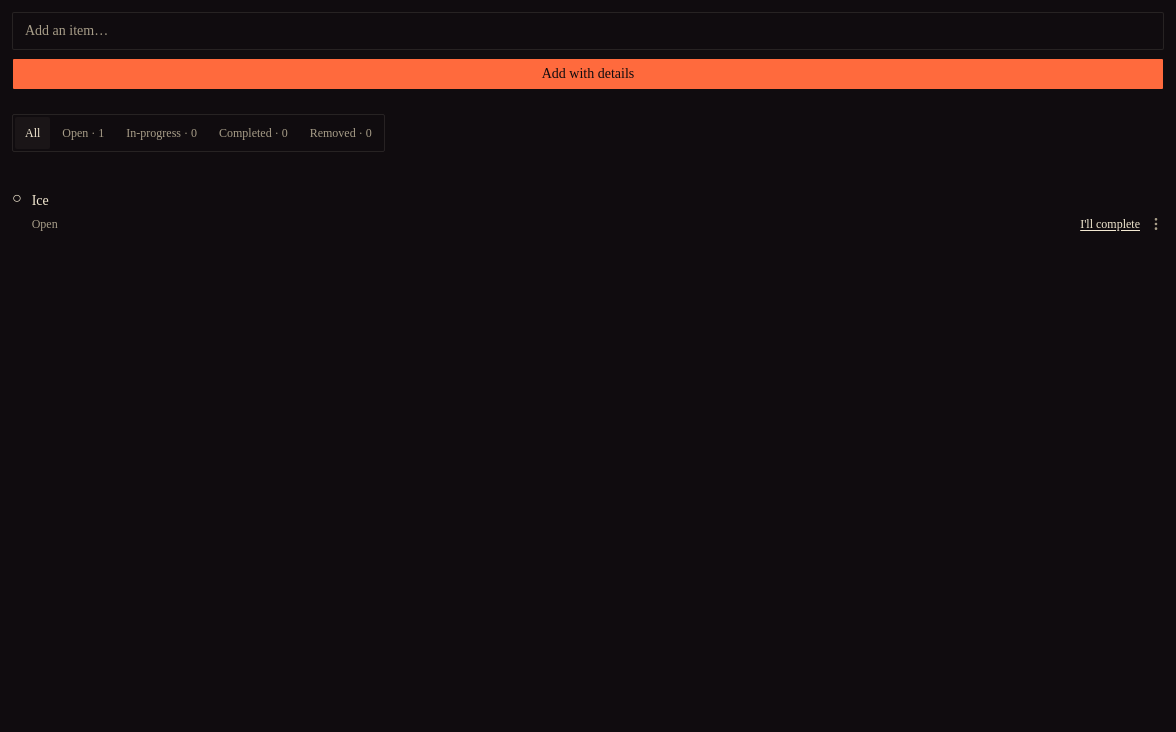
Test case: <ShoppingList /> › "Add with details" opens the full AddItemSheet form
Check: the field labelled "What is it?" is not shown
Click the button "Add with details": (588, 74) [12,58,1164,90]
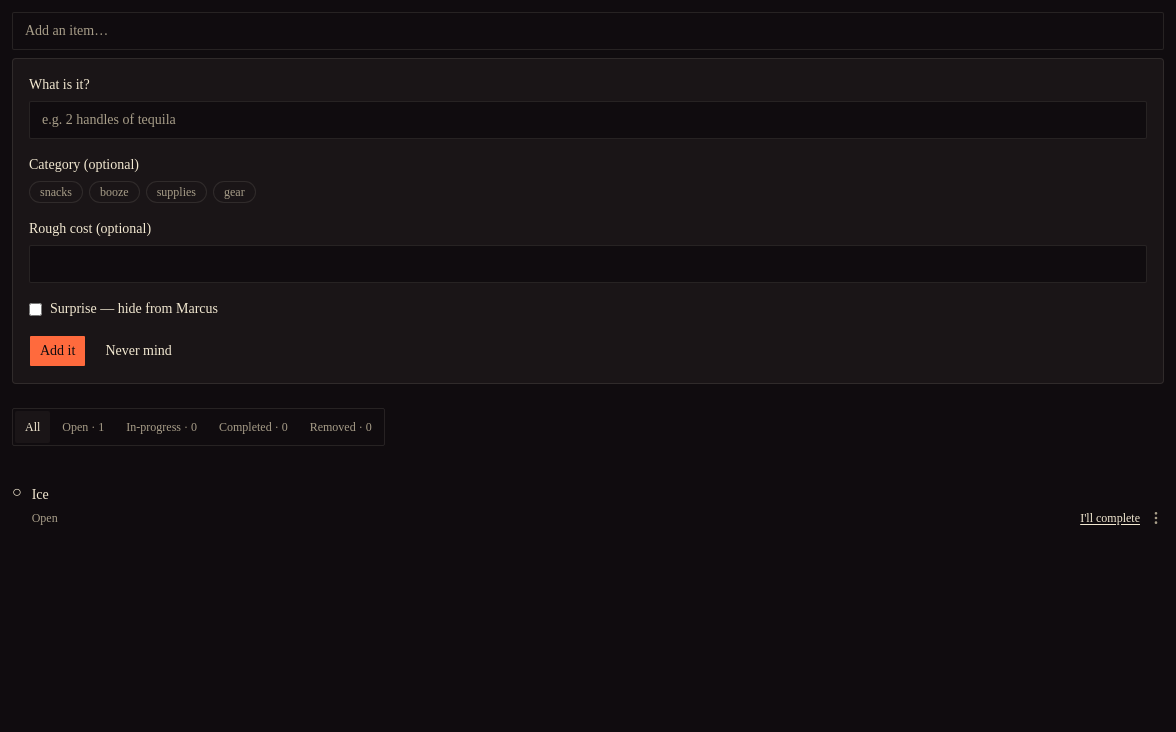
Check: the field labelled "What is it?" is shown, box [29,101,1147,139]
